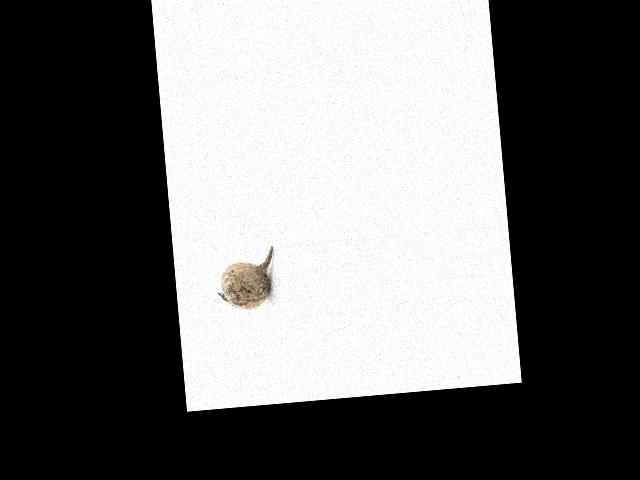beet: (214, 246, 278, 312)
